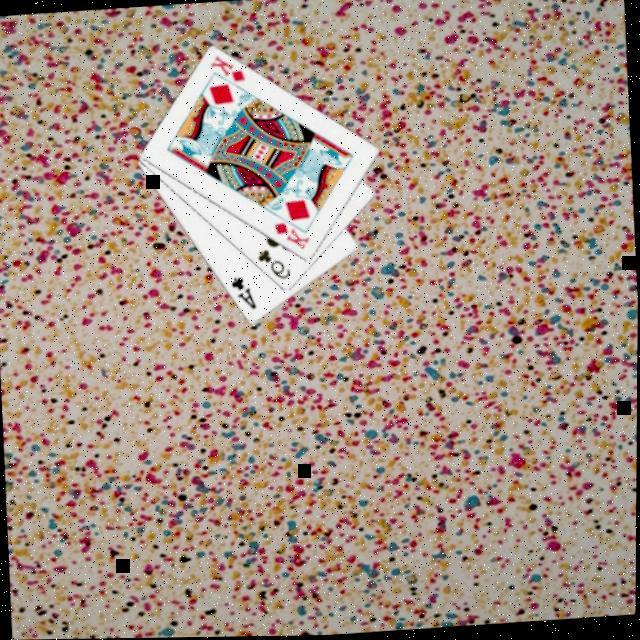6C: (252, 245, 292, 283)
AC: (226, 272, 258, 314)
KD: (268, 217, 311, 255), (204, 51, 246, 87)
